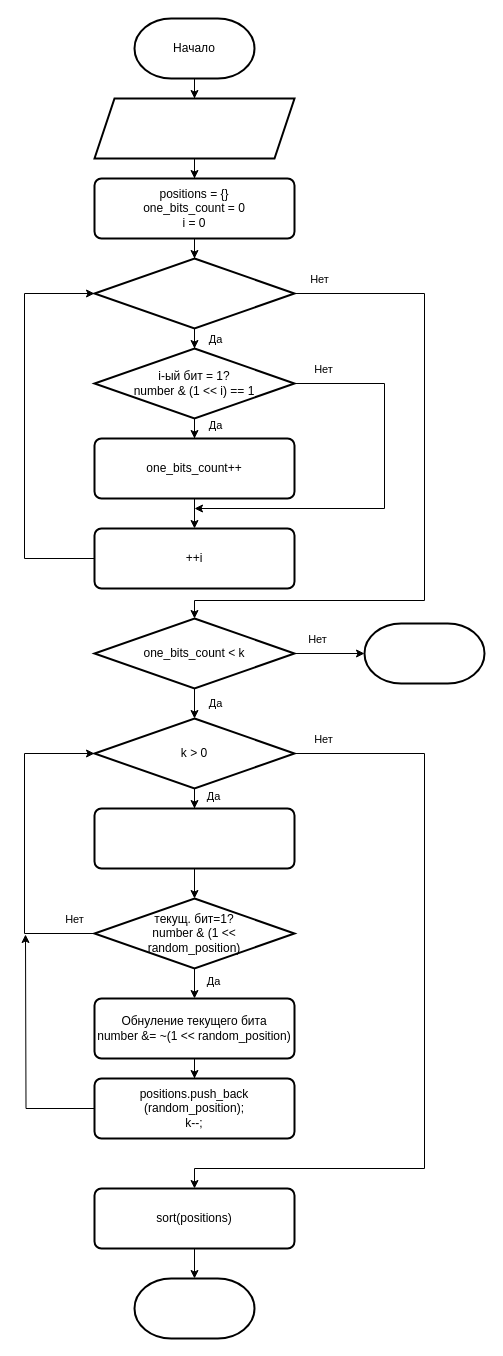
The diagram is 503 pixels wide and 1356 high, and some of its shapes have lost their labels. Each missing label, with the centre of its shape:
"i < 32" goes at (194,293).
"random_position=случ. число [0;31] random_position = rand() % 32" goes at (194,838).
"Ввод number, k" goes at (194,128).
"Конец (возврат 0)" goes at (424,653).
"Конец (возврат number)" goes at (194,1308).
